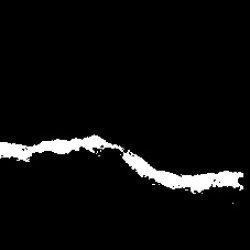crack: (2, 136, 244, 194)
